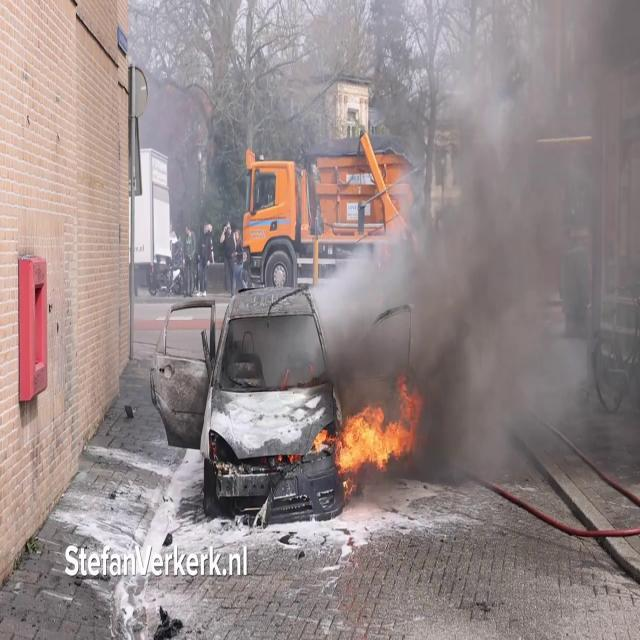Fire: (312, 399, 420, 482)
Smoke: (401, 0, 640, 486)
